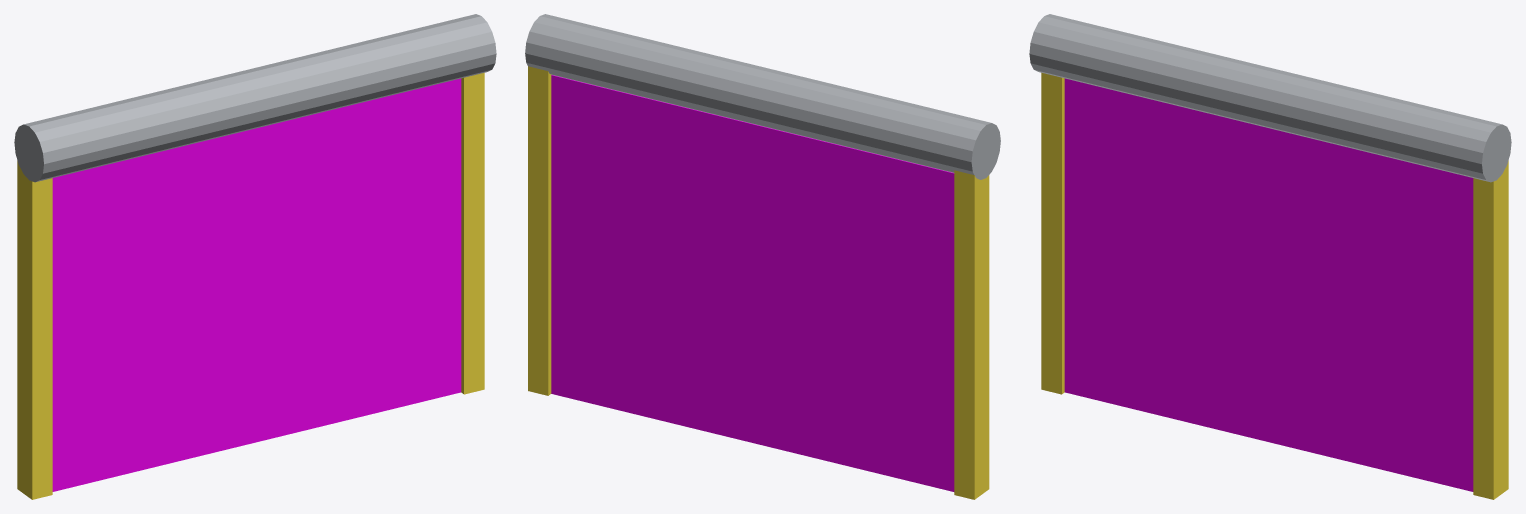
Rendered from garage_door.glb.
3 renders of one model, left to right at view 1: azimuth 30°, elevation 25°; view 2: azimuth 150°, elevation 25°; view 3: azimuth 330°, elevation 25°, orthographic.
Parts seen in each view (by area): view 1: COL_GarageDoor, Drum_Housing, Door_Frame; view 2: COL_GarageDoor, Drum_Housing, Door_Frame; view 3: COL_GarageDoor, Drum_Housing, Door_Frame.
Part boxes in pixels (<box>): COL_GarageDoor: <box>52,78,461,491</box>; Drum_Housing: <box>14,14,496,182</box>; Door_Frame: <box>17,72,484,499</box>; COL_GarageDoor: <box>551,75,954,491</box>; Drum_Housing: <box>525,14,1000,179</box>; Door_Frame: <box>528,66,989,499</box>; COL_GarageDoor: <box>1064,78,1473,491</box>; Drum_Housing: <box>1029,14,1511,182</box>; Door_Frame: <box>1041,72,1508,499</box>.
Size of the model in its own units: 8.8 by 6.9 by 1.
